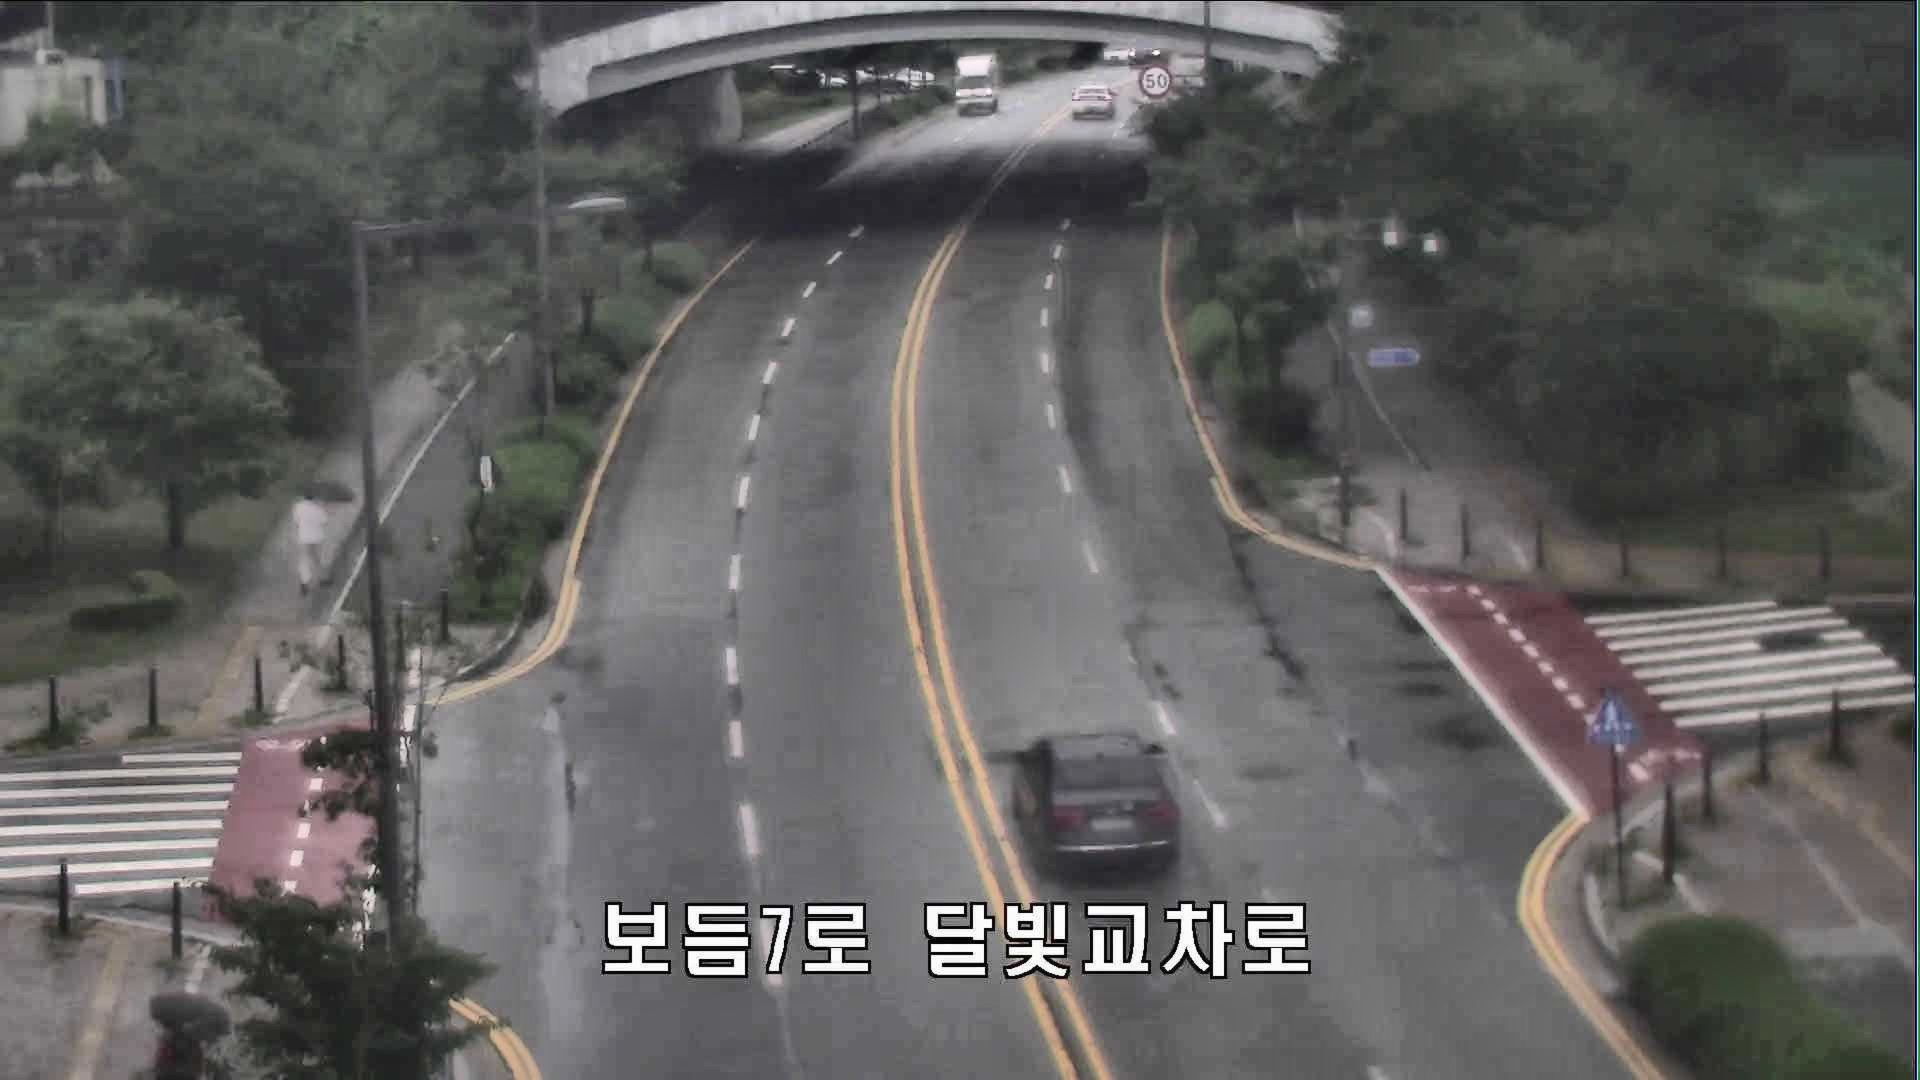um_sidewalk: (287, 473, 339, 591)
